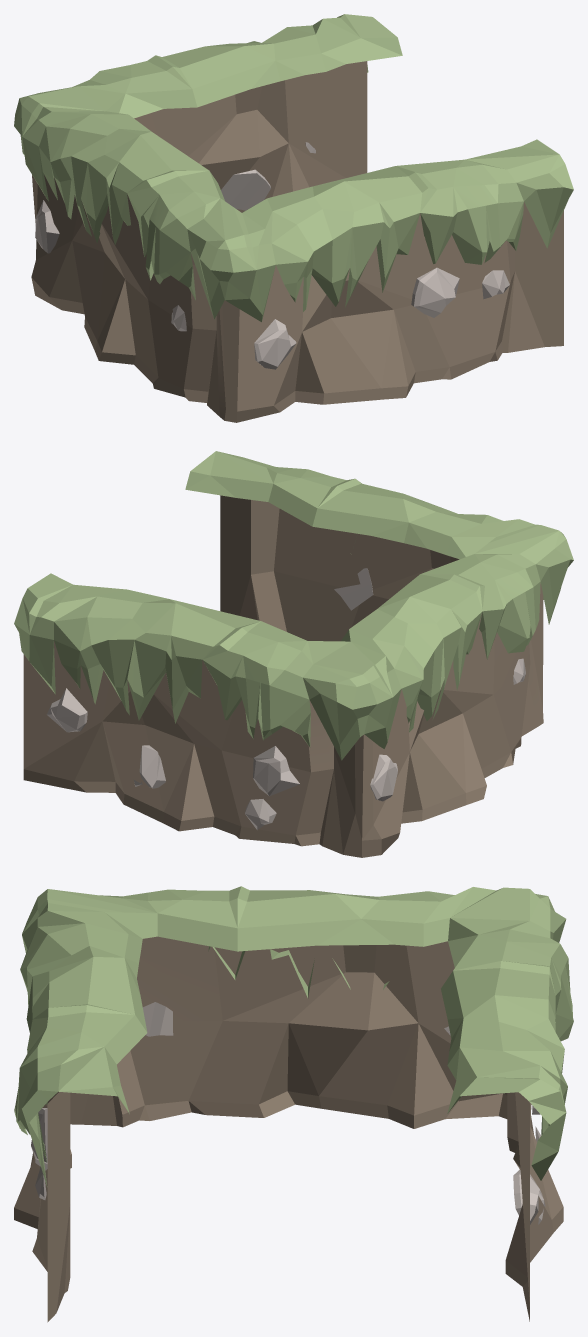
The model's file is ER_Terrain_1x1_Grass3Sided_Halfsize_001_A1.fbx.
3 views of the same model, one above another, from view 1: azimuth 30°, elevation 25°; view 2: azimuth 150°, elevation 25°; view 3: azimuth 270°, elevation 25° (orthographic). The views are drawn at different scales.
Parts seen in each view (by area): view 1: ER_Terrain_1x1_Grass3Sided_Halfsize_001_A1; view 2: ER_Terrain_1x1_Grass3Sided_Halfsize_001_A1; view 3: ER_Terrain_1x1_Grass3Sided_Halfsize_001_A1.
Part boxes in pixels (bbox=[...]): ER_Terrain_1x1_Grass3Sided_Halfsize_001_A1: bbox=[14, 14, 573, 422]; ER_Terrain_1x1_Grass3Sided_Halfsize_001_A1: bbox=[14, 451, 573, 857]; ER_Terrain_1x1_Grass3Sided_Halfsize_001_A1: bbox=[14, 886, 573, 1322].
Size of the model in its own units: 1.07 by 0.5633 by 1.16.
